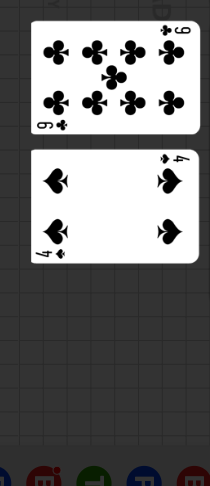4S: (34, 247, 67, 260)
9C: (35, 118, 70, 132)
